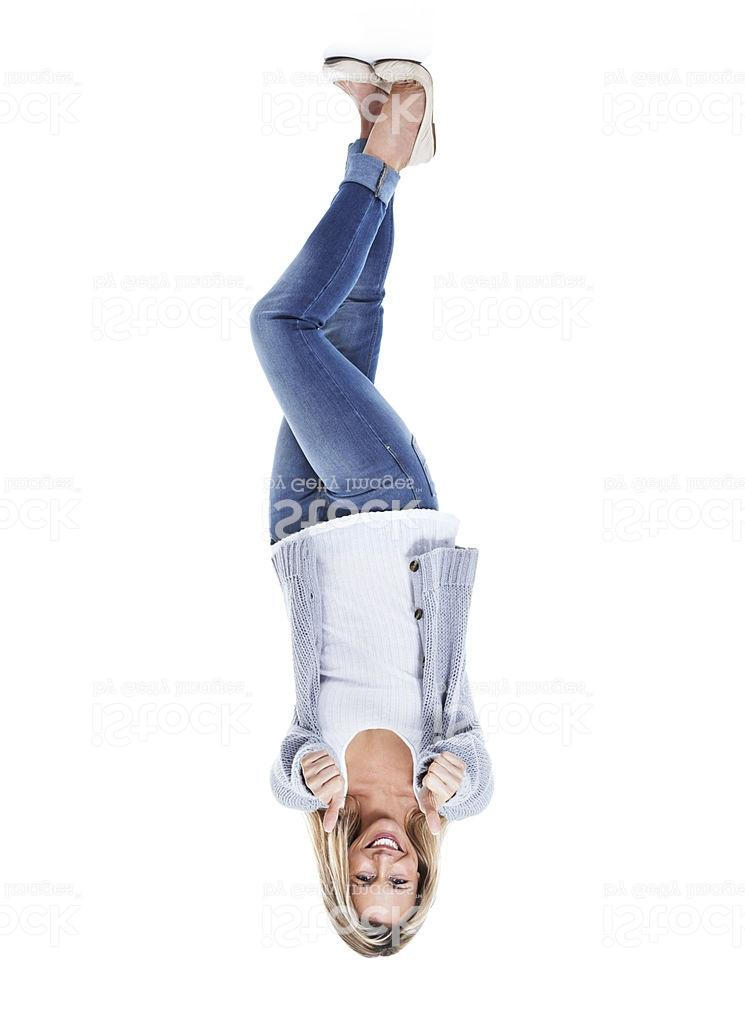thumbsdown: (417, 752, 467, 836), (299, 748, 346, 833)
